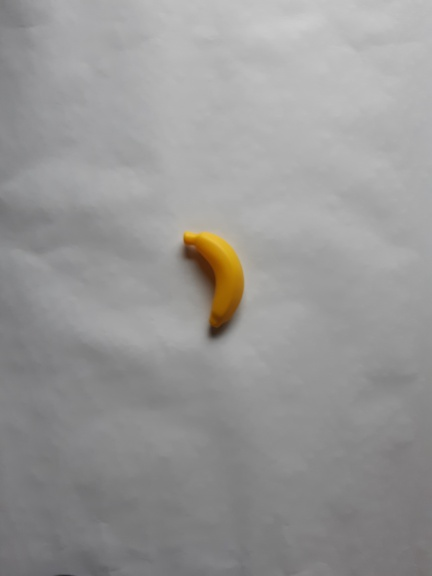banana: (175, 225, 254, 336)
